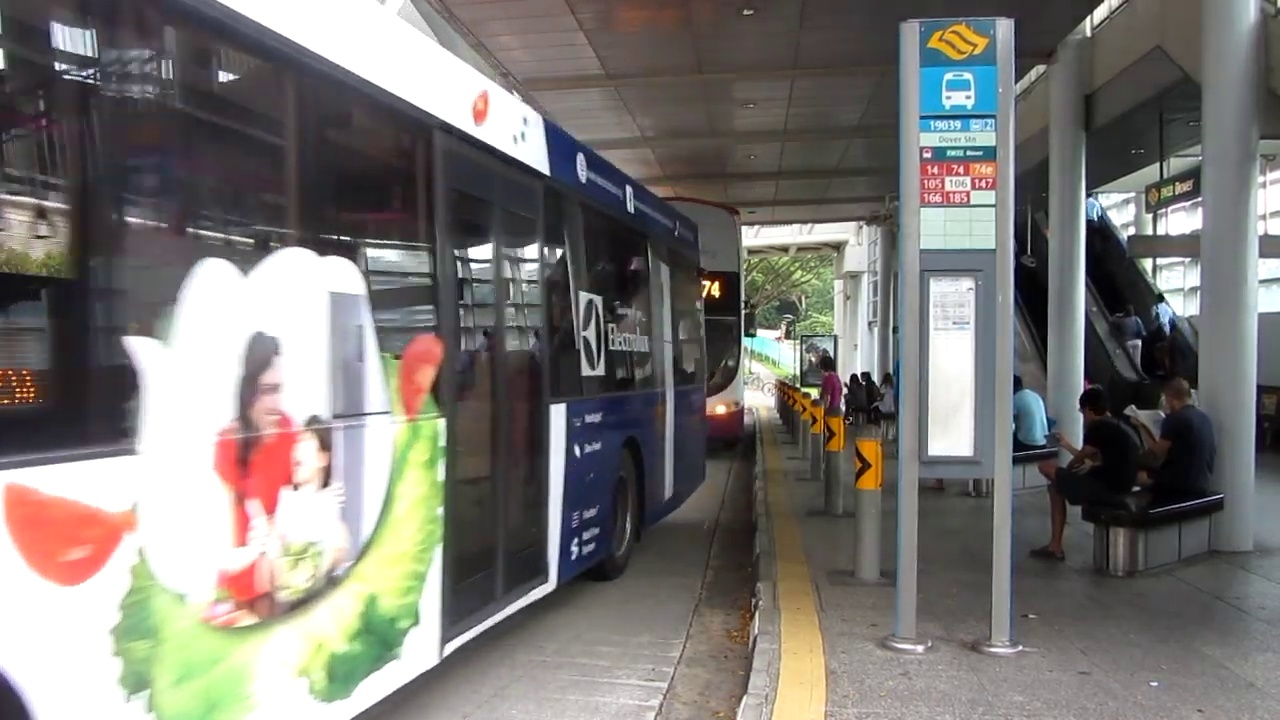bus panel: (700, 277, 726, 300)
